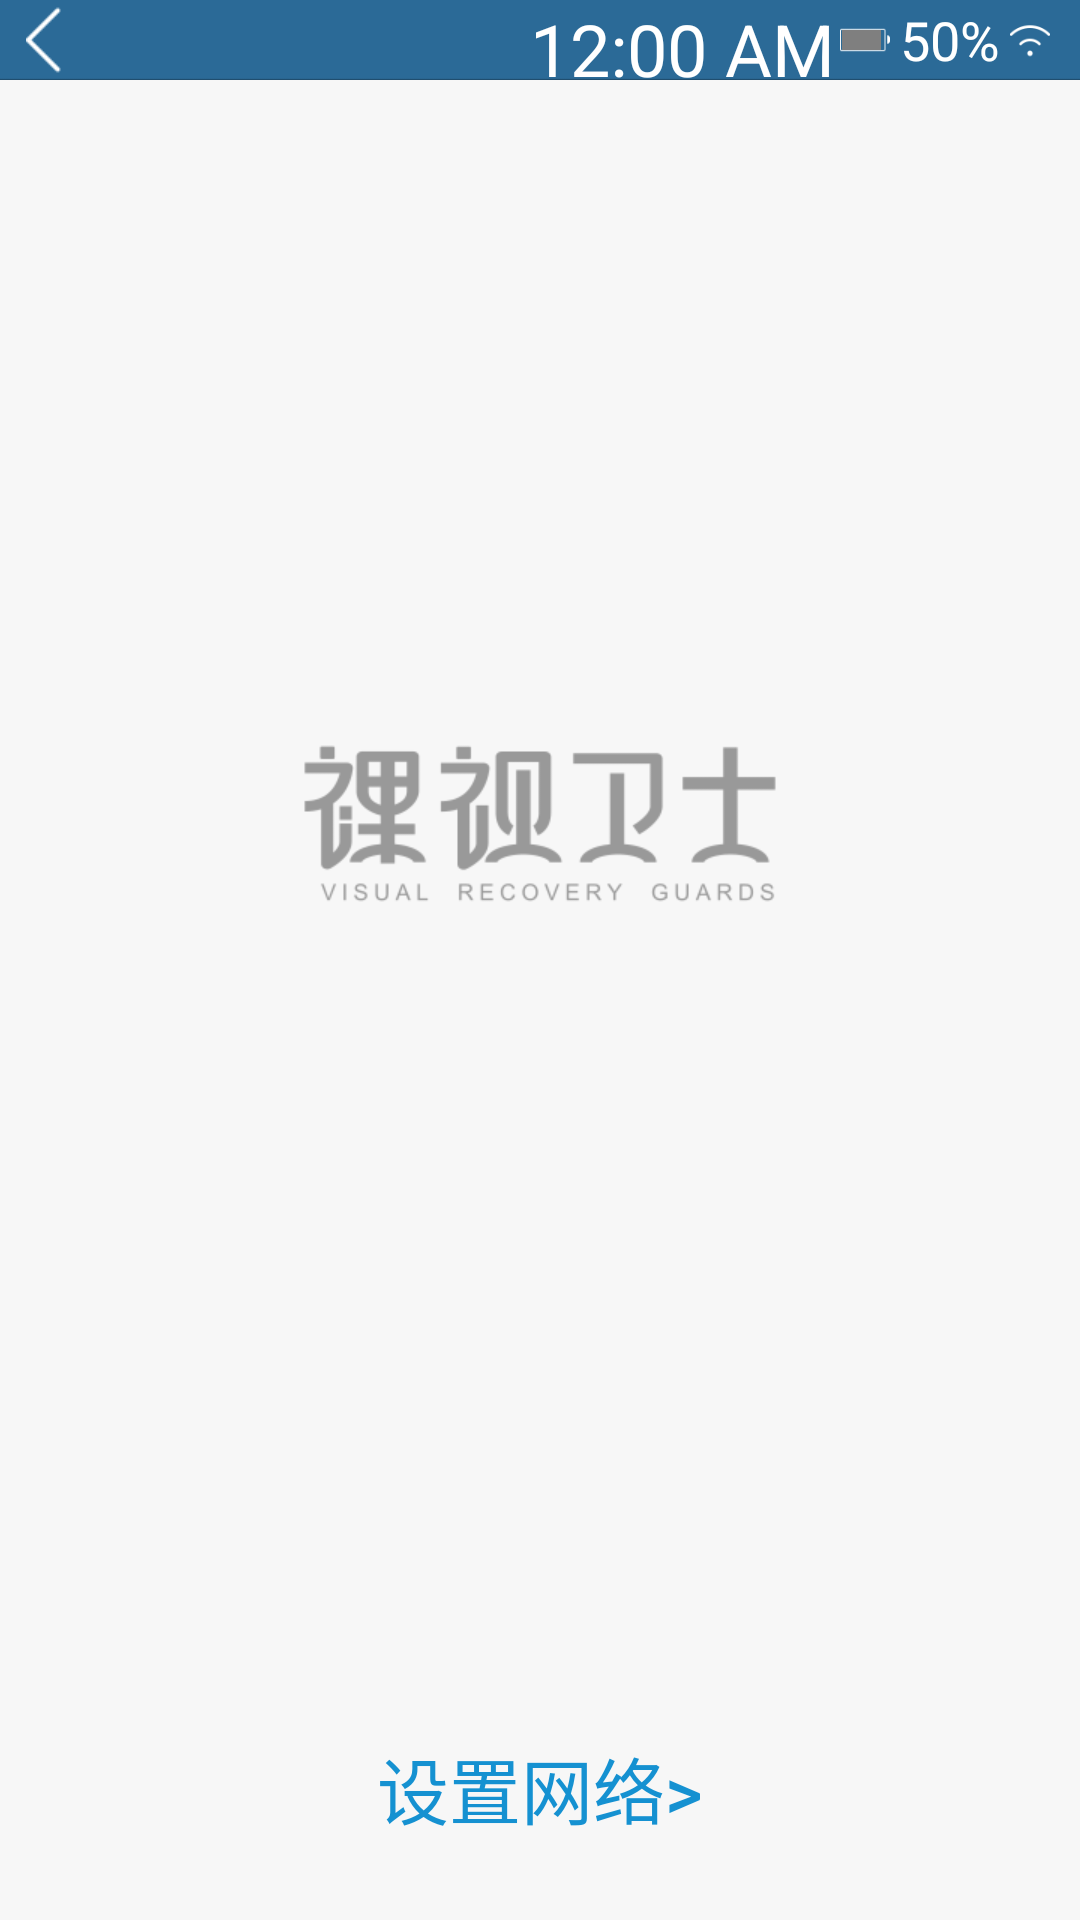

Where to tap for icons on this 1080px x 1920px app screen, as [x,y]:
wifi: [1030,41]
